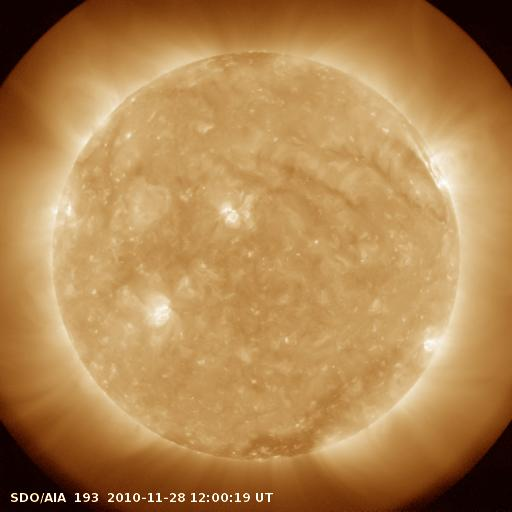coronal_hole: (232, 426, 325, 459)
